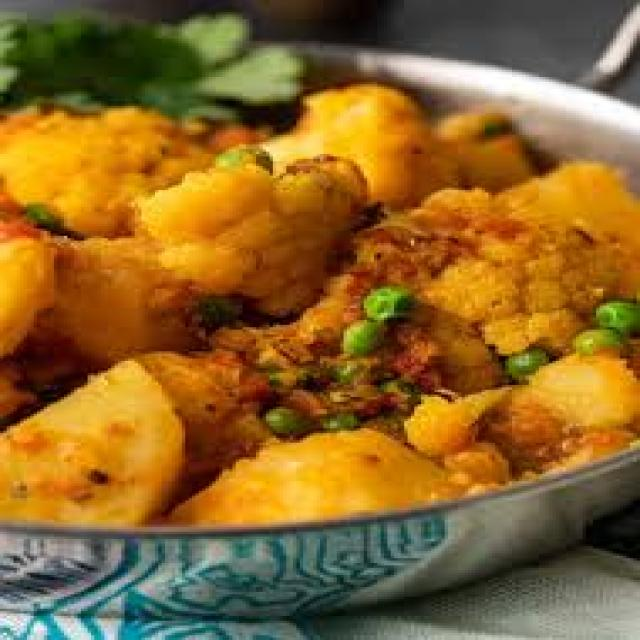Aloo Gobi: (0, 90, 538, 512)
